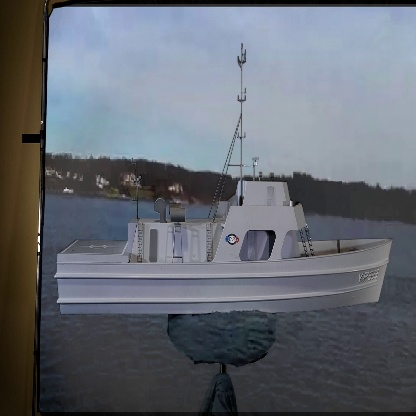YP689: (54, 38, 394, 317)
